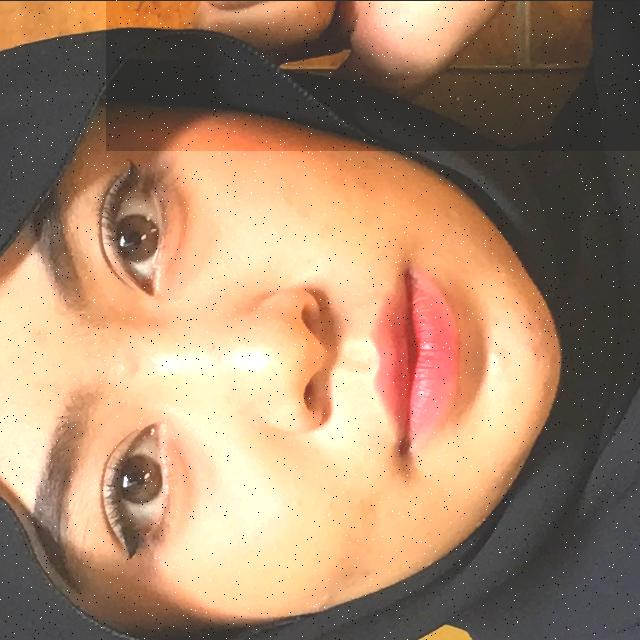ibu: (106, 0, 640, 150)
